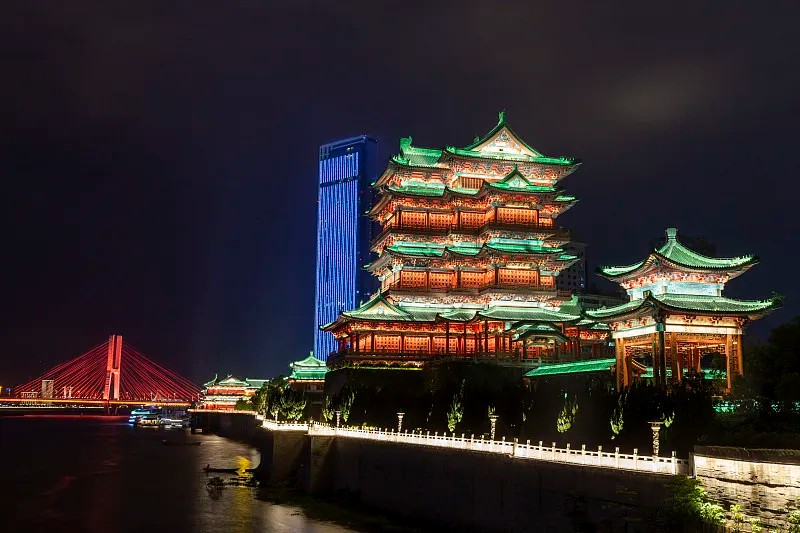Teng: (319, 113, 613, 363)
